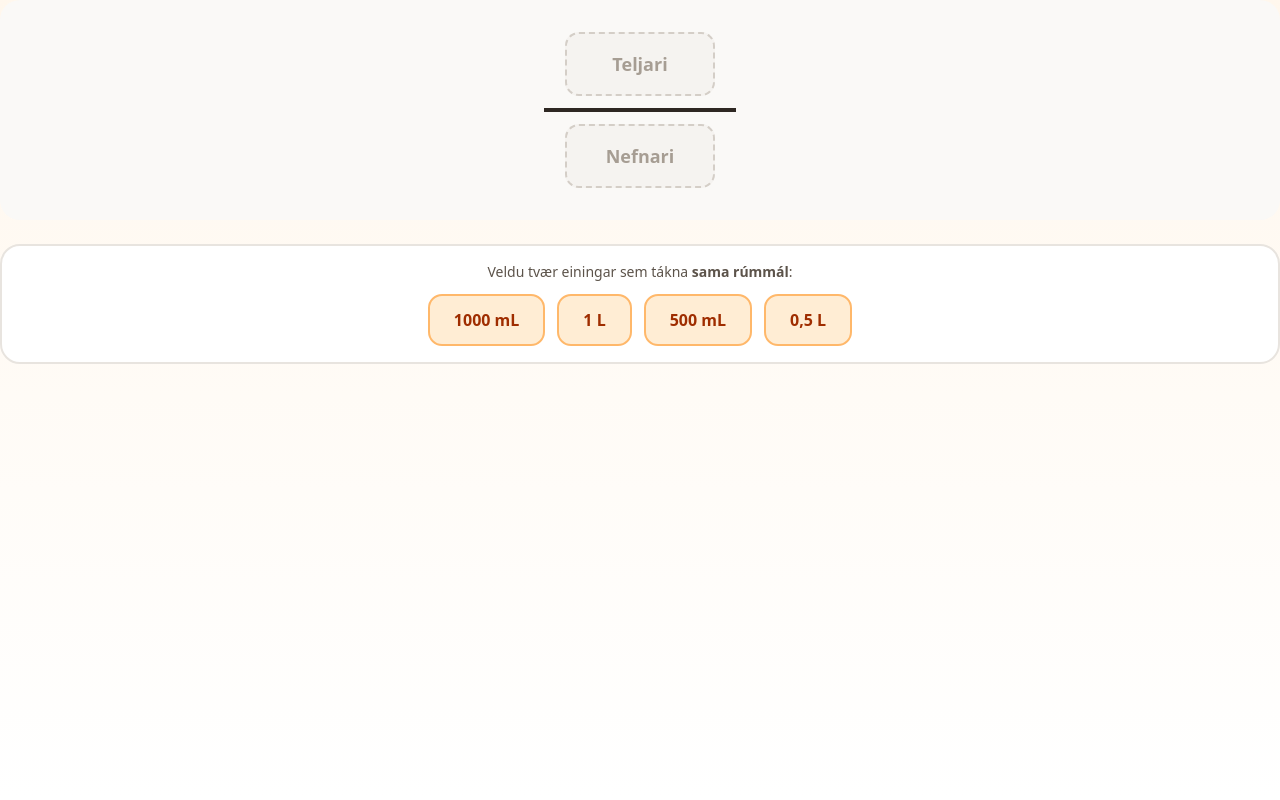
C2 states its verdict in well-formed notation › writes ≠ 1, not = ≠ 1, under a fraction that is not a conversion factor
Click the button "1 L": (595, 320) x1=557 y1=294 x2=632 y2=346
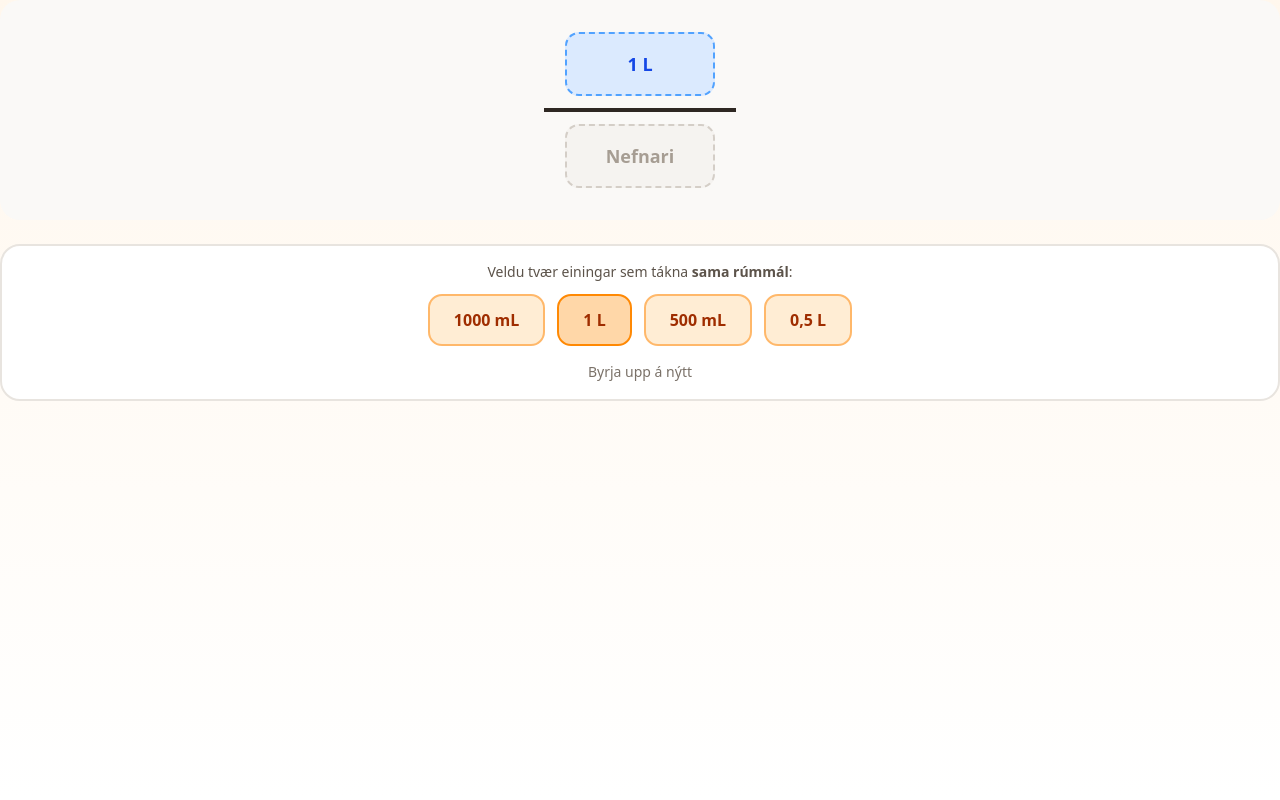
Click the button "0,5 L": (808, 320) x1=764 y1=294 x2=852 y2=346
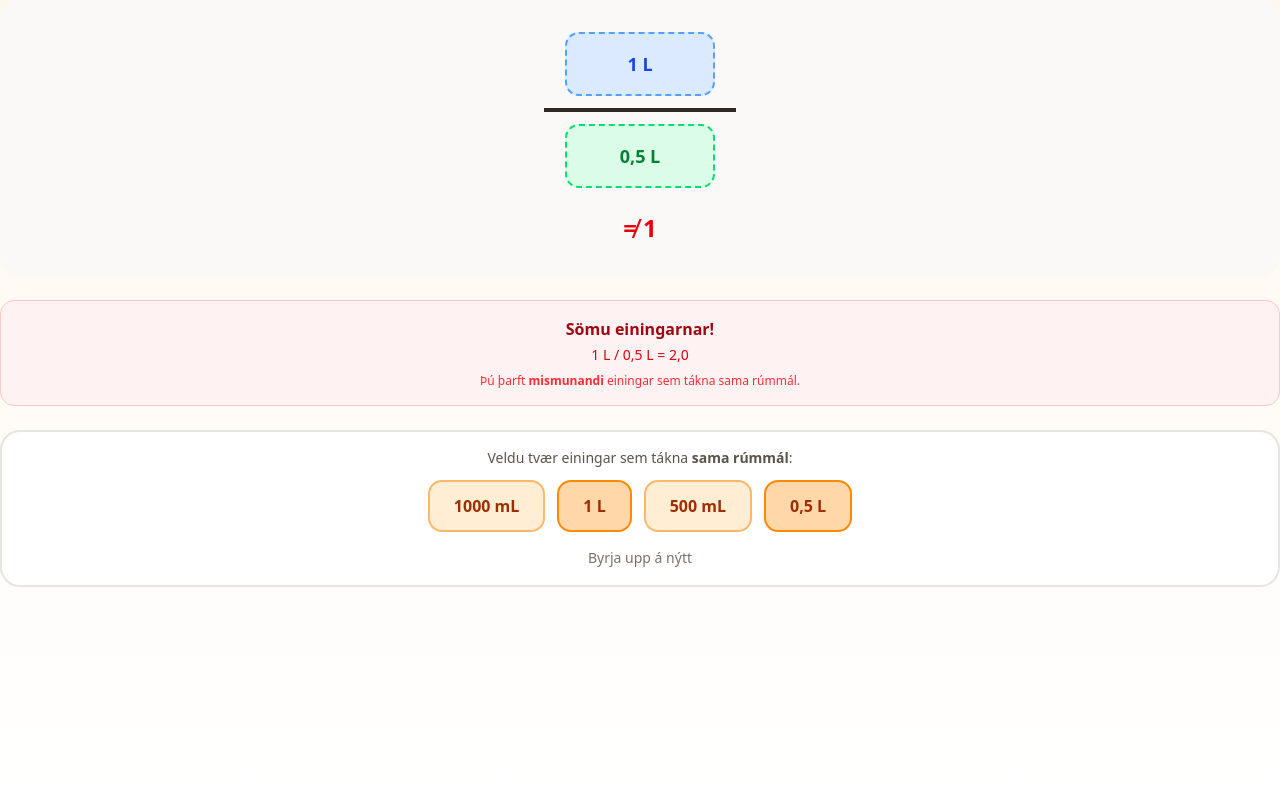
Expected: the text "Sömu einingarnar!" is shown, x1=566 y1=318 x2=714 y2=340
Expected: the text "≠ 1" is shown, x1=623 y1=212 x2=657 y2=244
Click the button "1000 mL": (487, 506) x1=428 y1=480 x2=545 y2=532
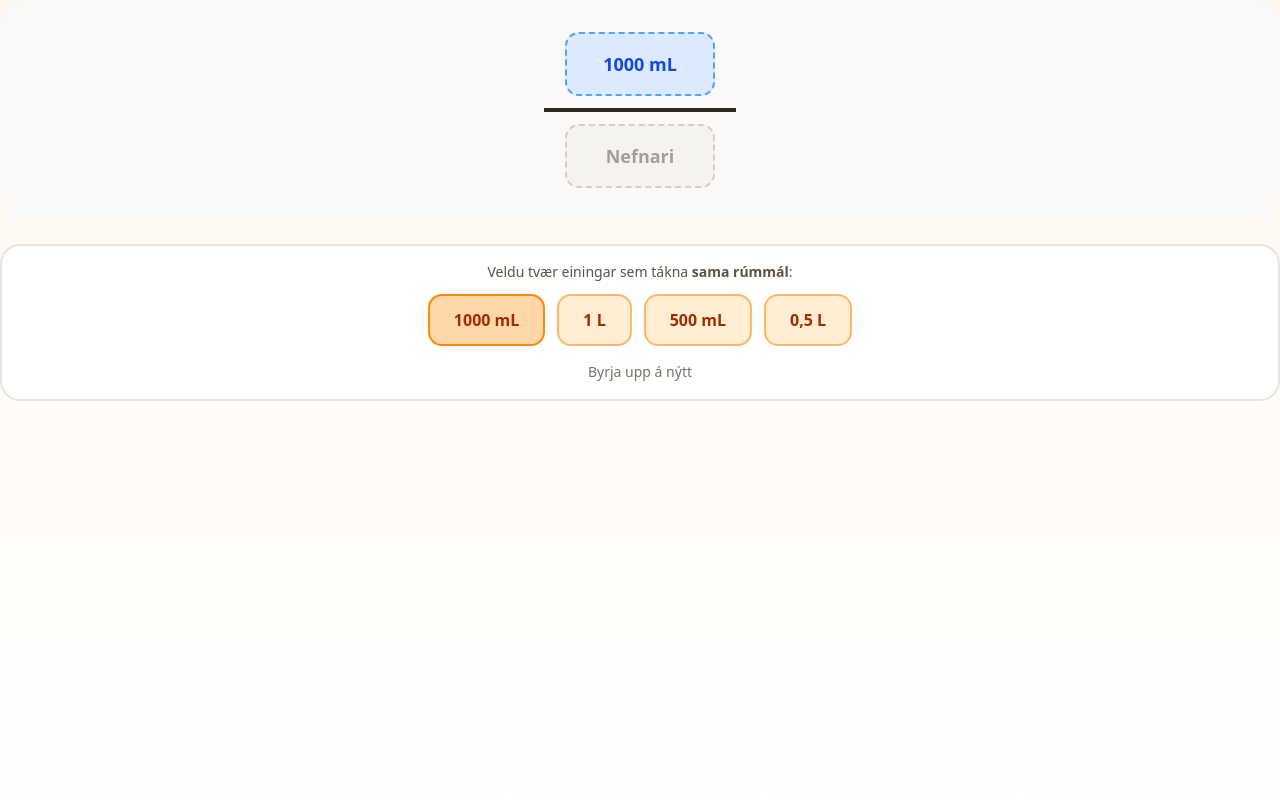
Click the button "0,5 L": (808, 320) x1=764 y1=294 x2=852 y2=346
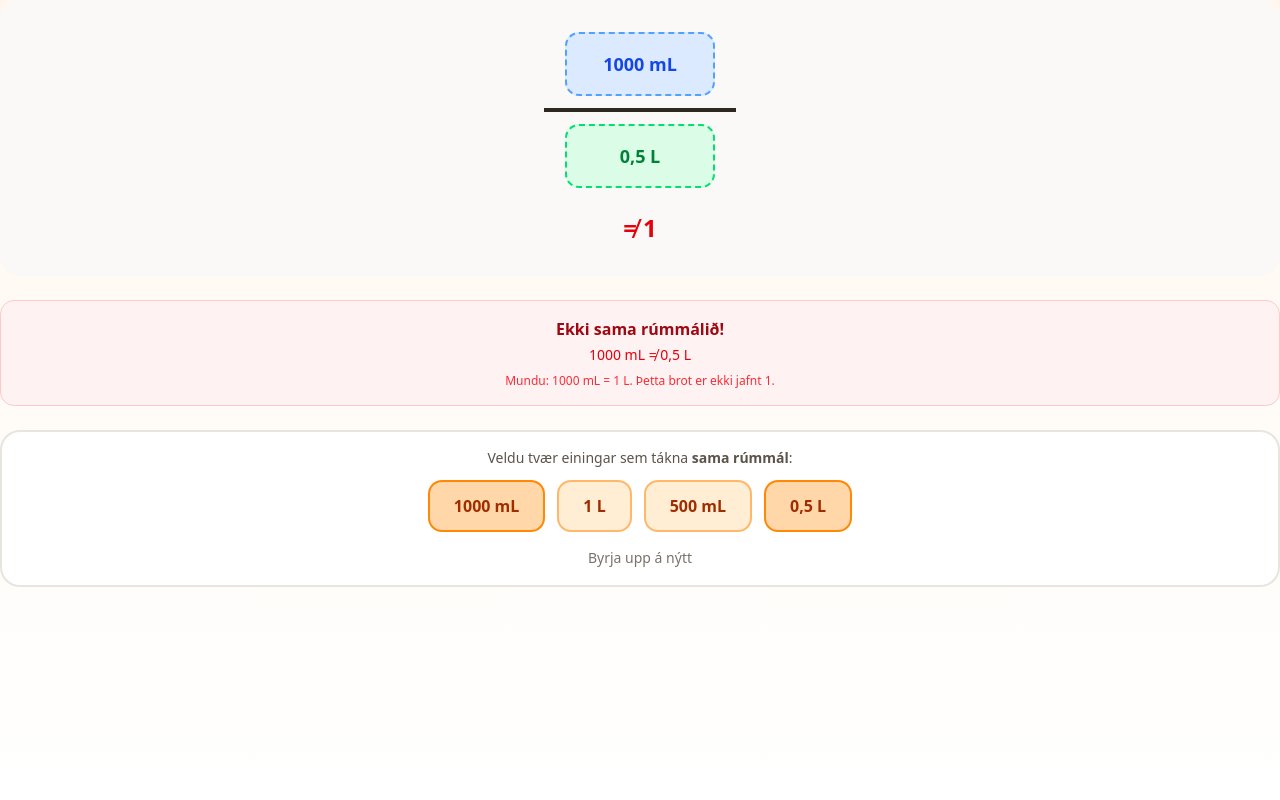
Expected: the text "Ekki sama rúmmálið!" is shown, x1=556 y1=318 x2=724 y2=340
Expected: the text "≠ 1" is shown, x1=623 y1=212 x2=657 y2=244
